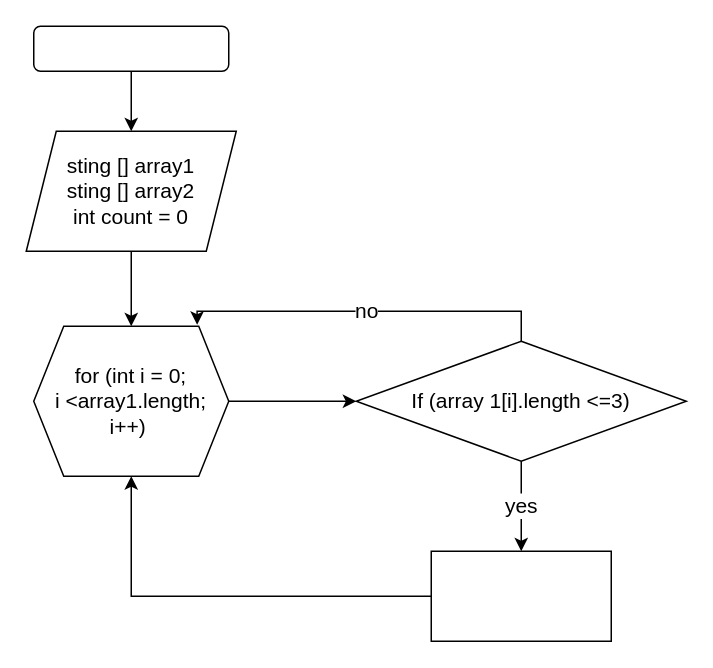
The diagram is 713 pixels wide and 668 high, and some of its shapes have lost their labels. The shapes that lost their labels are listed below. From the top down, each one's centre as x and y in pixels, then its label:
At (130,48): "SecondArrayWithIf".
At (520,595): "array2[count]=1[i] count++".
